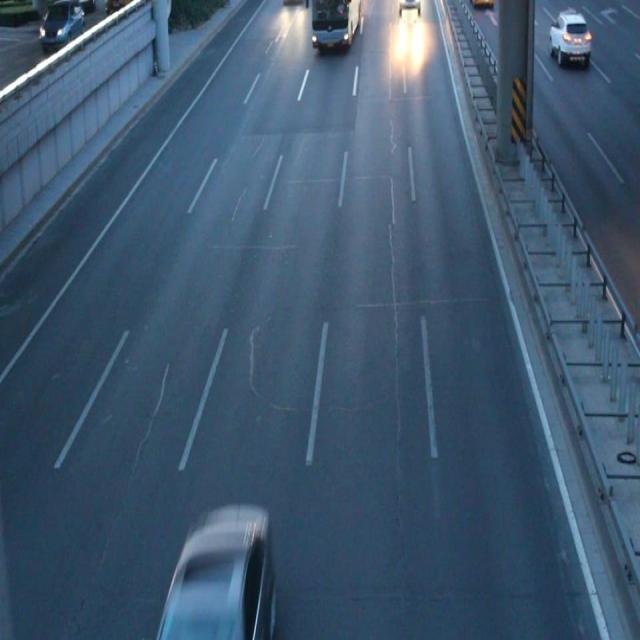car: (156, 507, 272, 640), (548, 15, 591, 63), (398, 1, 421, 18), (472, 1, 491, 10)
van: (310, 1, 358, 46)
